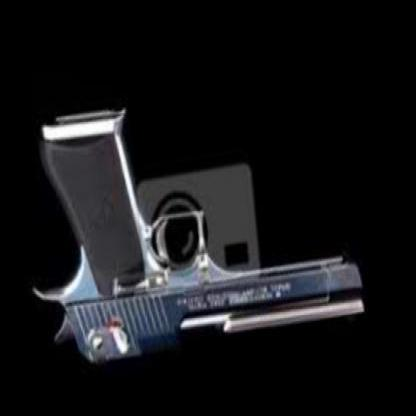pistol: (8, 17, 380, 407)
